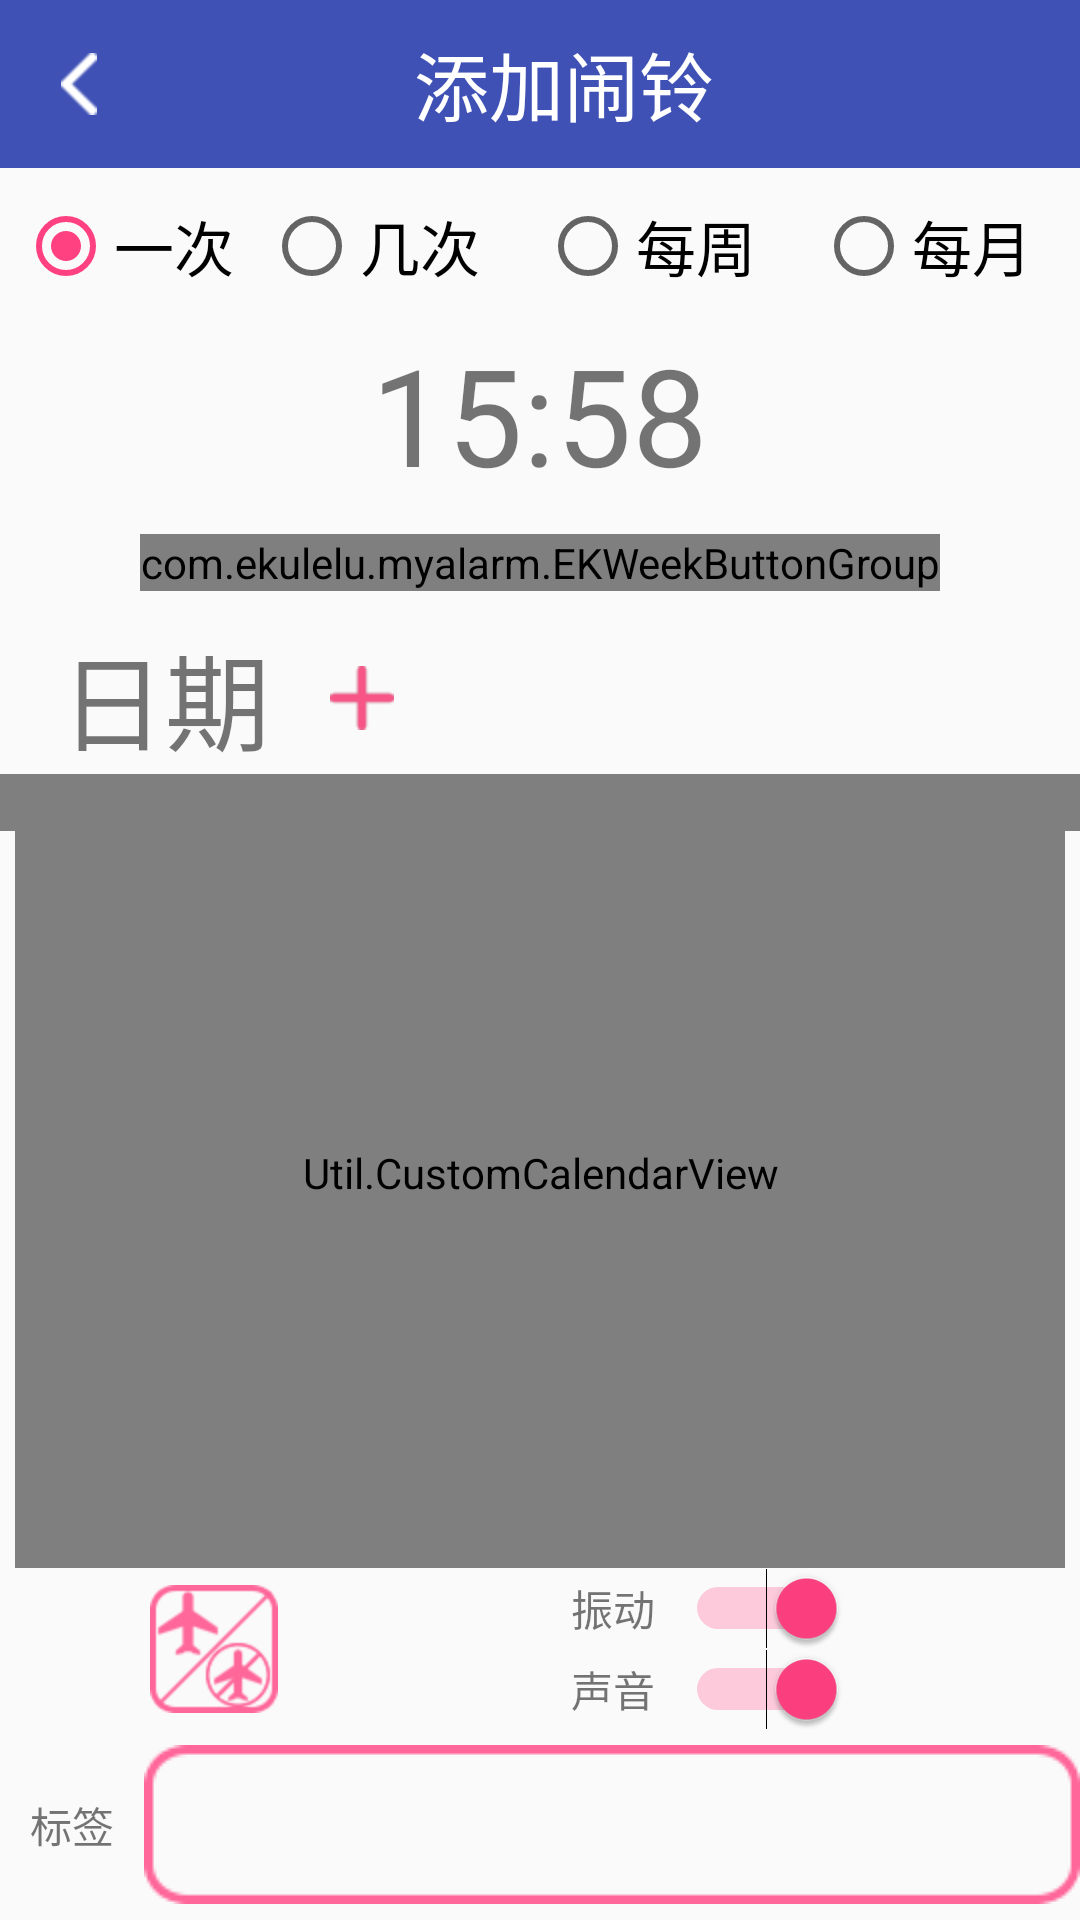

Named icons in this screenshot (1080px x 1920px) and their centers, (x=x, y=y):
add: (x=362, y=698)
air mode keep: (x=214, y=1649)
